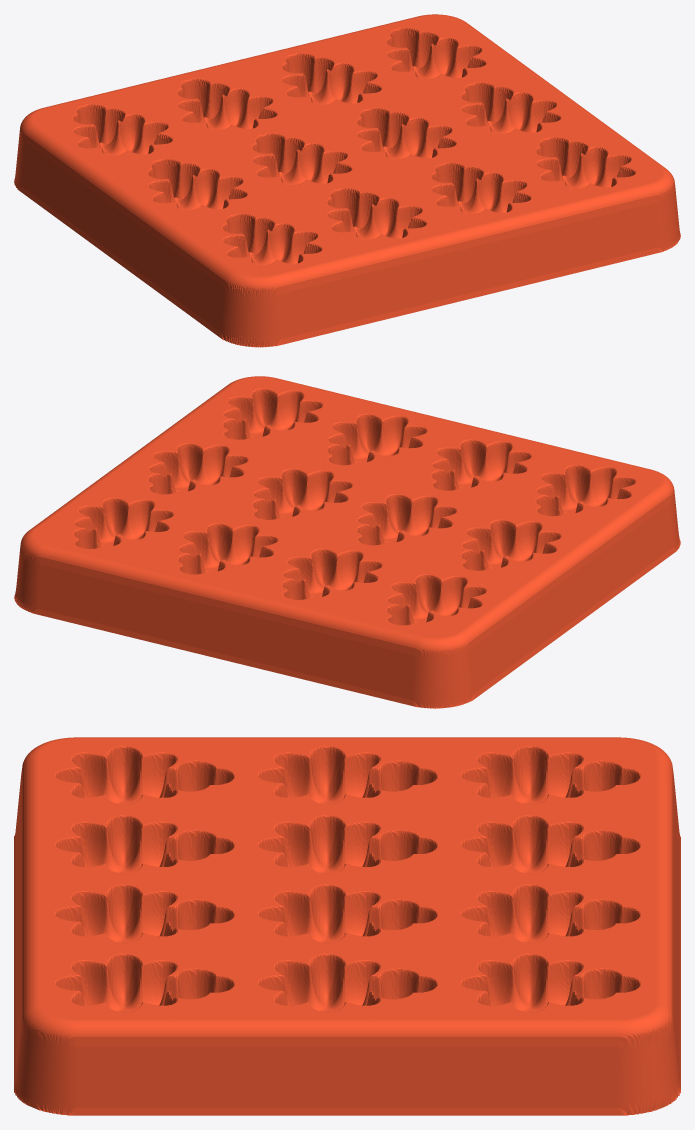
File: mold.glb
The picture shows the model from 3 angles, top to bottom: view 1: azimuth 30°, elevation 25°; view 2: azimuth 150°, elevation 25°; view 3: azimuth 270°, elevation 25°; orthographic projection. The views are drawn at different scales.
Parts seen in each view (by area): view 1: geometry_0; view 2: geometry_0; view 3: geometry_0.
Part boxes in pixels (x1,y1,x2,y2): geometry_0: (14, 14, 680, 347); geometry_0: (14, 376, 680, 708); geometry_0: (14, 737, 680, 1115).
Size of the model in its own units: 0.103 by 0.0136 by 0.0963.
